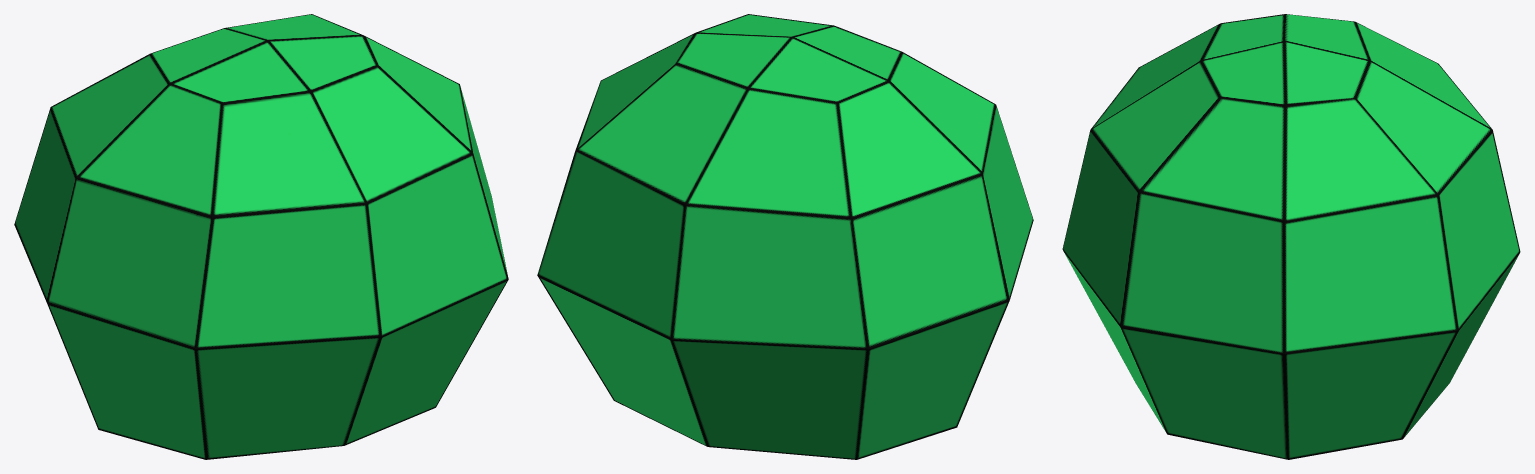
Rendered from Bush1.fbx.
3 views of the same model, side by side, from view 1: azimuth 30°, elevation 25°; view 2: azimuth 150°, elevation 25°; view 3: azimuth 270°, elevation 25° (orthographic). The views are drawn at different scales.
Visible parts, largest first — view 1: Bush1; view 2: Bush1; view 3: Bush1.
Part boxes in pixels (box(x1,y1,x2,y2)): Bush1: box(14, 14, 508, 459); Bush1: box(537, 14, 1033, 459); Bush1: box(1062, 14, 1520, 459).
Bounding box in the file's own units: 281 × 212 × 257.
Materials: 1 (1 with a texture image).
